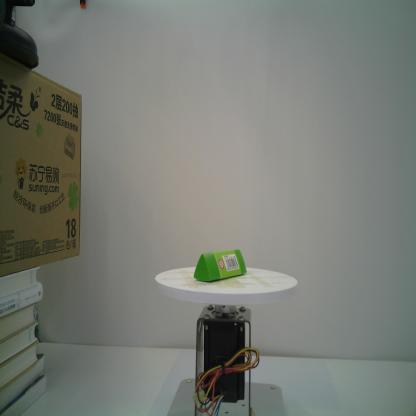Stationery: (194, 249, 246, 282)
